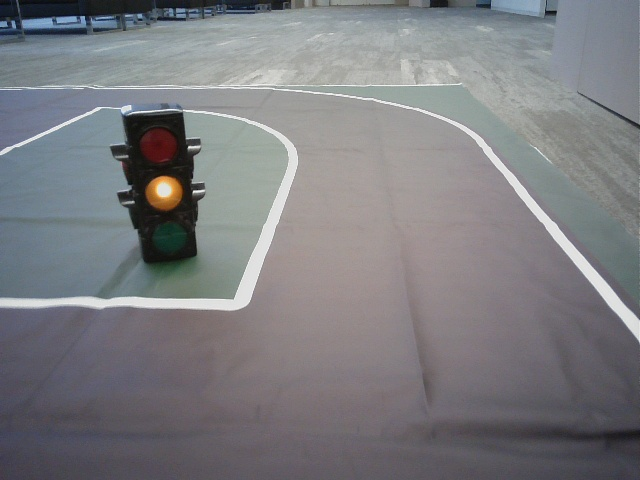yellow: (133, 117, 193, 256)
